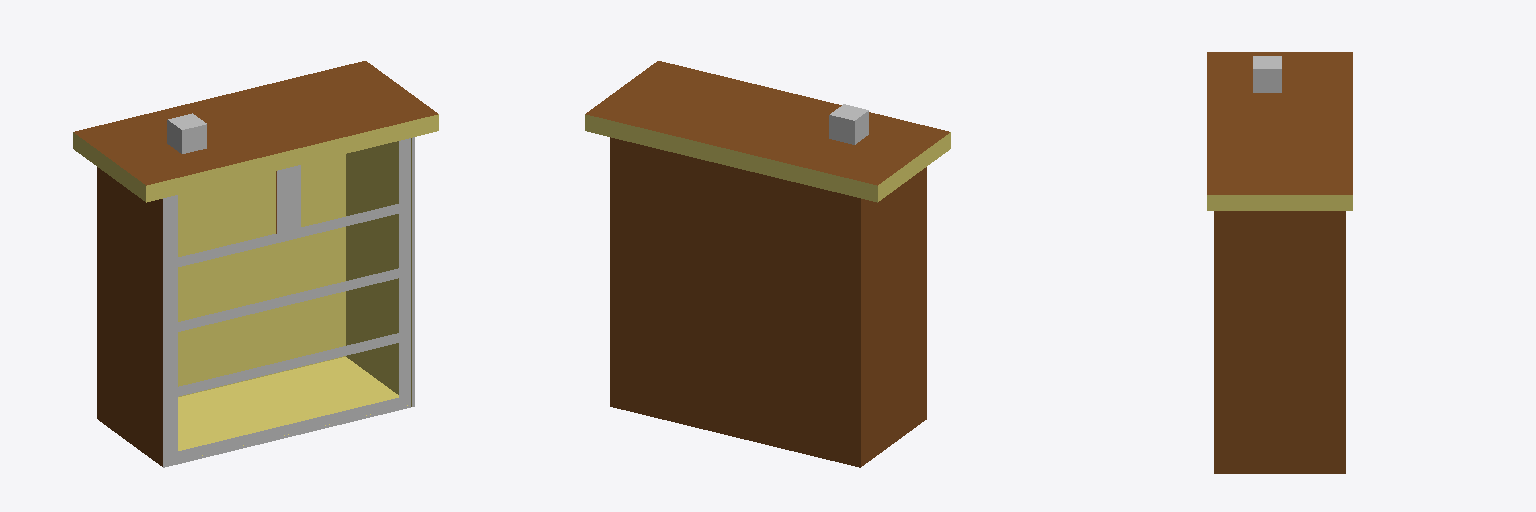
3 views of the same model, side by side, from view 1: azimuth 30°, elevation 25°; view 2: azimuth 150°, elevation 25°; view 3: azimuth 270°, elevation 25° (orthographic).
Parts seen in each view (by area): view 1: polySurface27; view 2: polySurface27; view 3: polySurface27.
Boxes of the visible parts, <box> form: polySurface27: <box>73,61,438,467</box>; polySurface27: <box>585,61,950,467</box>; polySurface27: <box>1207,52,1352,473</box>.
Bounding box in the file's own units: 1.25 × 1.28 × 0.542.
Materials: 4 (2 with a texture image).